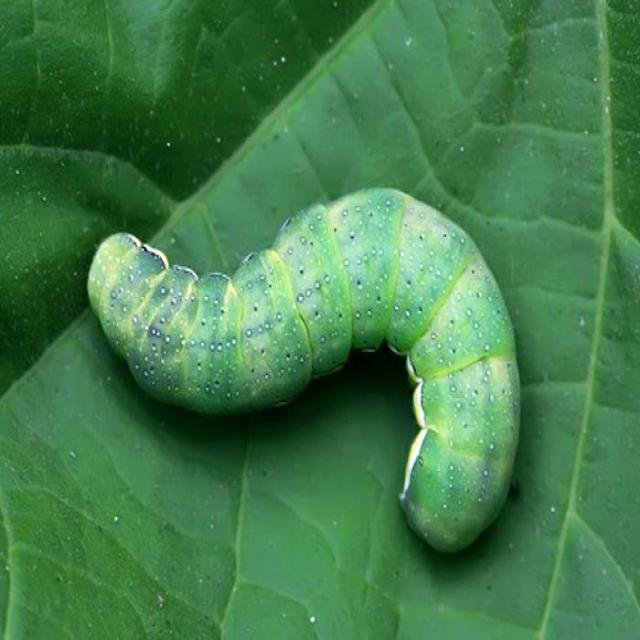BeetArmyWorm-Larva-: (80, 182, 529, 564)
